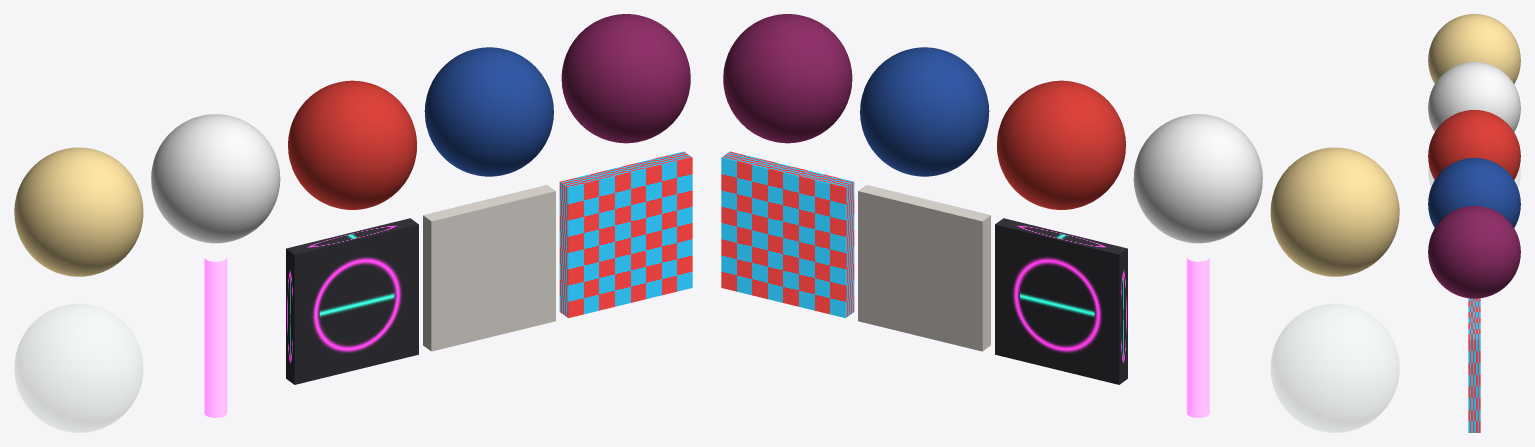
Rendered from materials-test.glb.
The picture shows the model from 3 angles, left to right: view 1: azimuth 30°, elevation 25°; view 2: azimuth 150°, elevation 25°; view 3: azimuth 270°, elevation 25°; orthographic projection. The views are drawn at different scales.
Size of the model in its own units: 5.35 by 2.25 by 0.9.
Materials: 10 (2 with a texture image).
